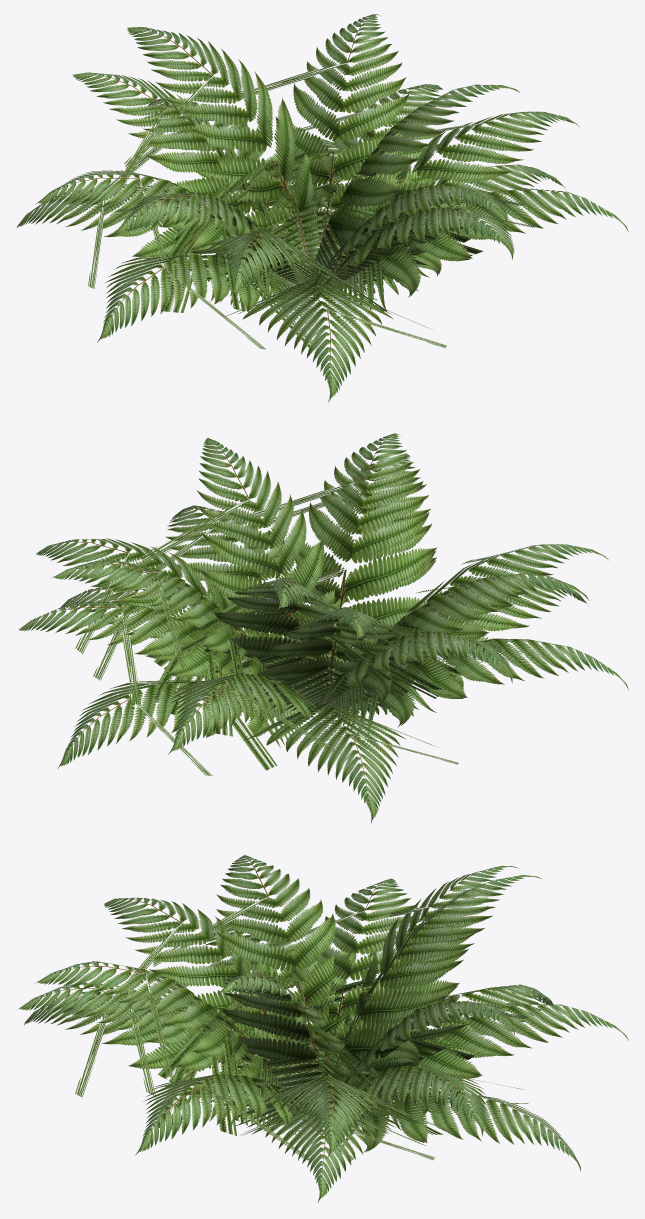
Rendered from fern-e.glb.
3 views of the same model, one above another, from view 1: azimuth 30°, elevation 25°; view 2: azimuth 150°, elevation 25°; view 3: azimuth 270°, elevation 25° (orthographic).
Visible parts, largest first — view 1: fern-e; view 2: fern-e; view 3: fern-e.
Boxes of the visible parts, box(x1,y1,x2,y2) form: fern-e: box(17, 14, 628, 402); fern-e: box(18, 433, 628, 823); fern-e: box(19, 855, 628, 1202).
Size of the model in its own units: 1.94 by 0.7132 by 1.91.
Materials: 1 (1 with a texture image).
